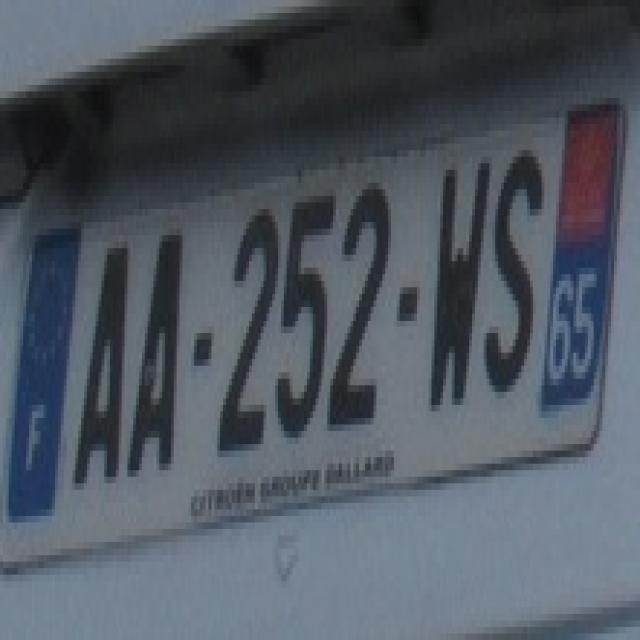EU: (0, 103, 625, 559)
France: (7, 229, 79, 520)
